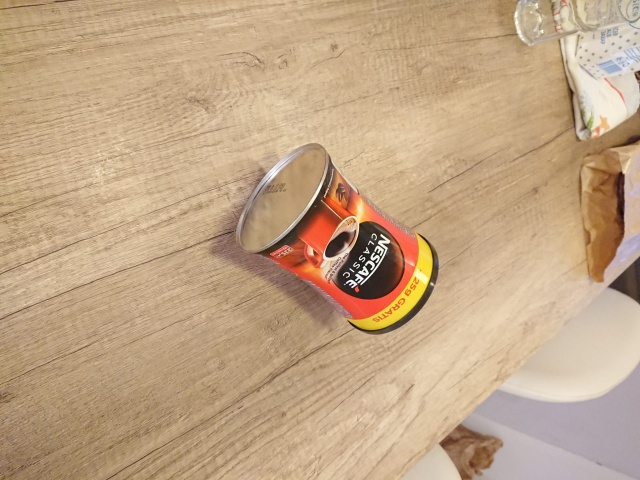Nescafe Classic 225g: (232, 140, 443, 338)
